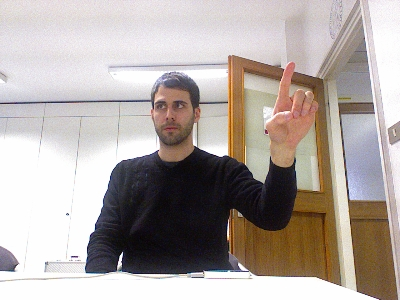食指: (263, 60, 318, 151)
